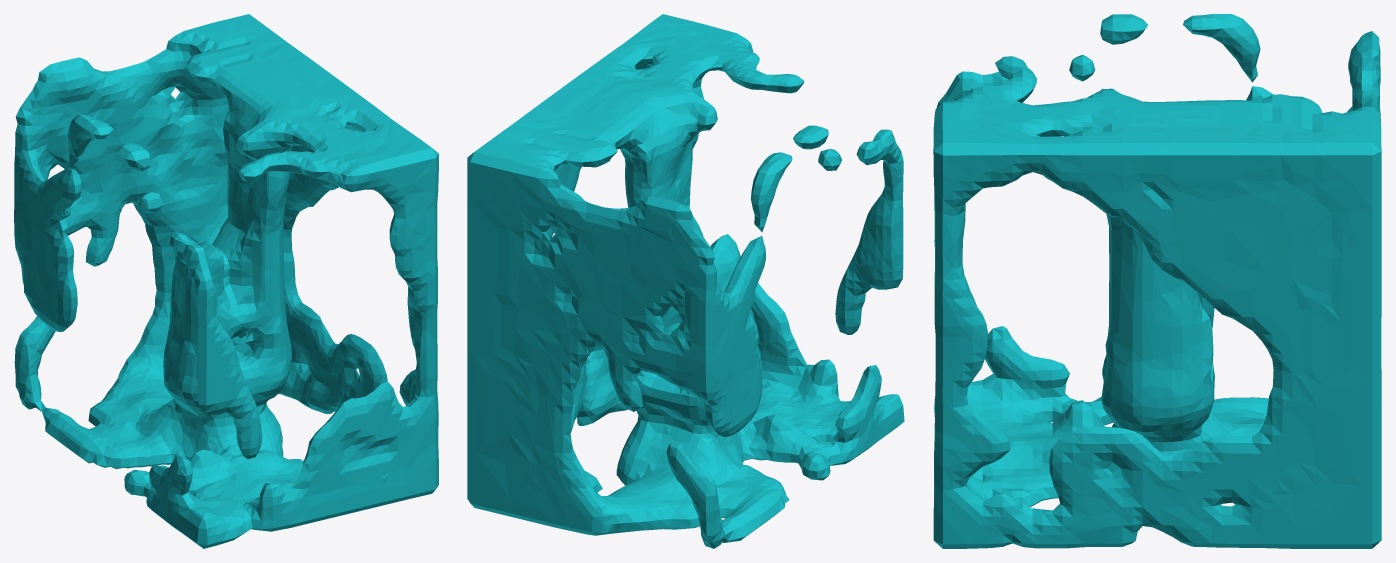
3 views of the same model, side by side, from view 1: azimuth 30°, elevation 25°; view 2: azimuth 150°, elevation 25°; view 3: azimuth 270°, elevation 25° (orthographic). The views are drawn at different scales.
Parts seen in each view (by area): view 1: Liquid_Domain; view 2: Liquid_Domain; view 3: Liquid_Domain.
Part boxes in pixels (box(x1,y1,x2,y2)): Liquid_Domain: box(14, 14, 438, 548); Liquid_Domain: box(467, 14, 904, 548); Liquid_Domain: box(933, 14, 1381, 548).
Size of the model in its own units: 79.11 by 108 by 108.
